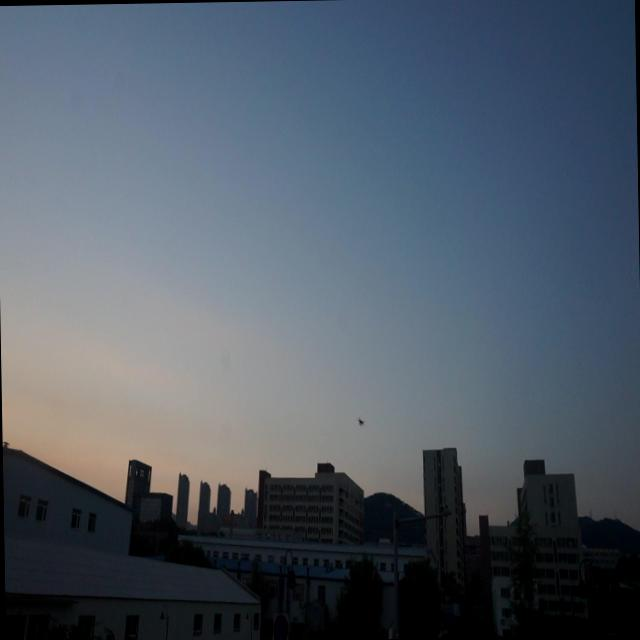drone: (356, 414, 364, 428)
